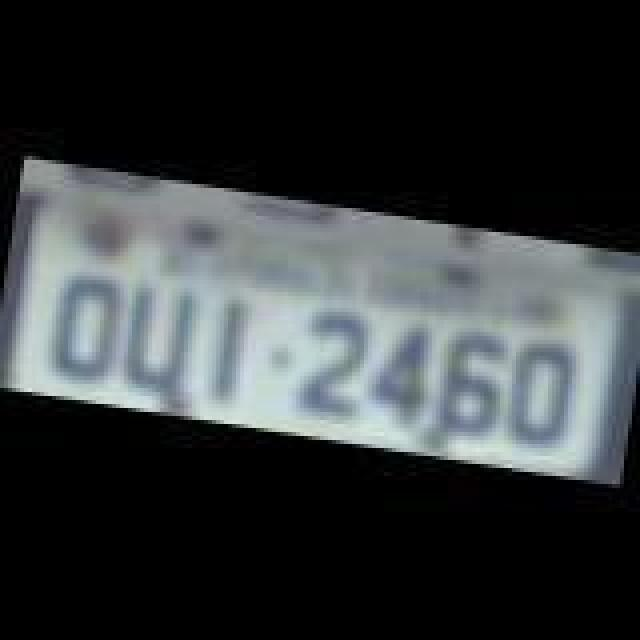1: (200, 292, 248, 404)
2: (286, 304, 378, 424)
4: (362, 318, 438, 434)
6: (430, 328, 514, 440)
O: (42, 266, 134, 390), (496, 340, 576, 452)
U: (116, 278, 204, 394)
